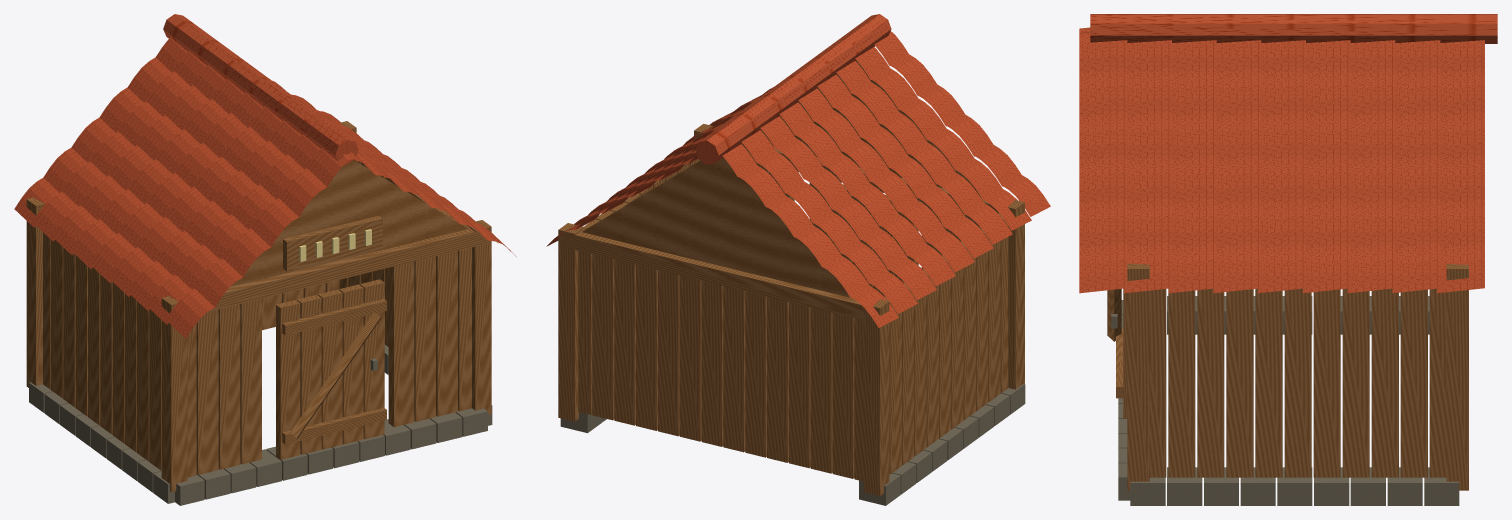
File: barn.glb
3 renders of one model, left to right at view 1: azimuth 30°, elevation 25°; view 2: azimuth 150°, elevation 25°; view 3: azimuth 270°, elevation 25°, orthographic. The views are drawn at different scales.
Visible parts, largest first — view 1: barn-body, barn-door; view 2: barn-body, barn-door; view 3: barn-body, barn-door.
Part boxes in pixels (box(x1,y1,x2,y2)): barn-body: box(14, 14, 516, 505); barn-door: box(276, 279, 386, 459); barn-body: box(546, 14, 1050, 505); barn-door: box(809, 182, 918, 296); barn-body: box(1079, 14, 1497, 505); barn-door: box(1107, 288, 1127, 418).
Bounding box in the file's own units: 2.84 × 2.75 × 2.62.
1 material, 1 textured.
